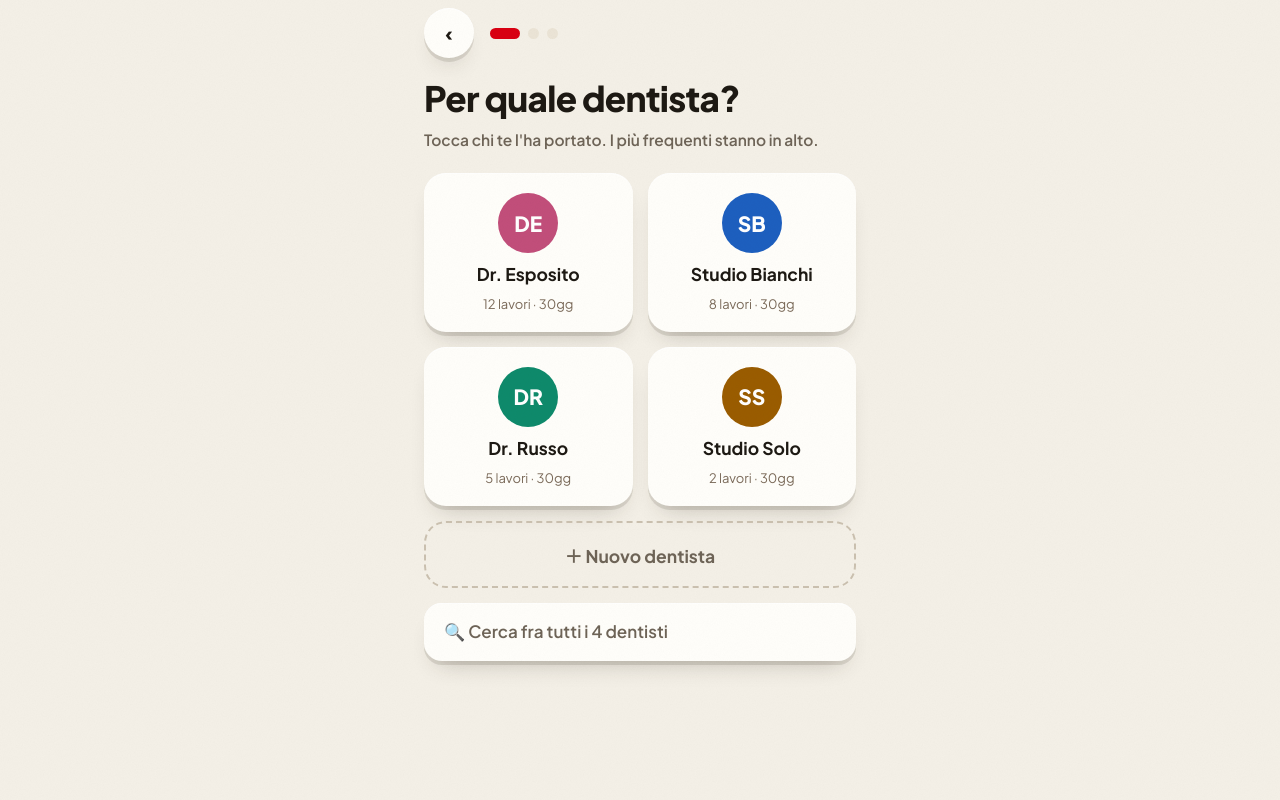
Scenario: WizardNuovoLavoro — mini-foglio «Chi ha prescritto?» (Task 10, P37/D211) › studio con più medici: il foglio sale, elenca i medici trovati
Click the button "SB Studio Bianchi 8 lavori · 30gg" at (752, 252), box [648,173,856,332]
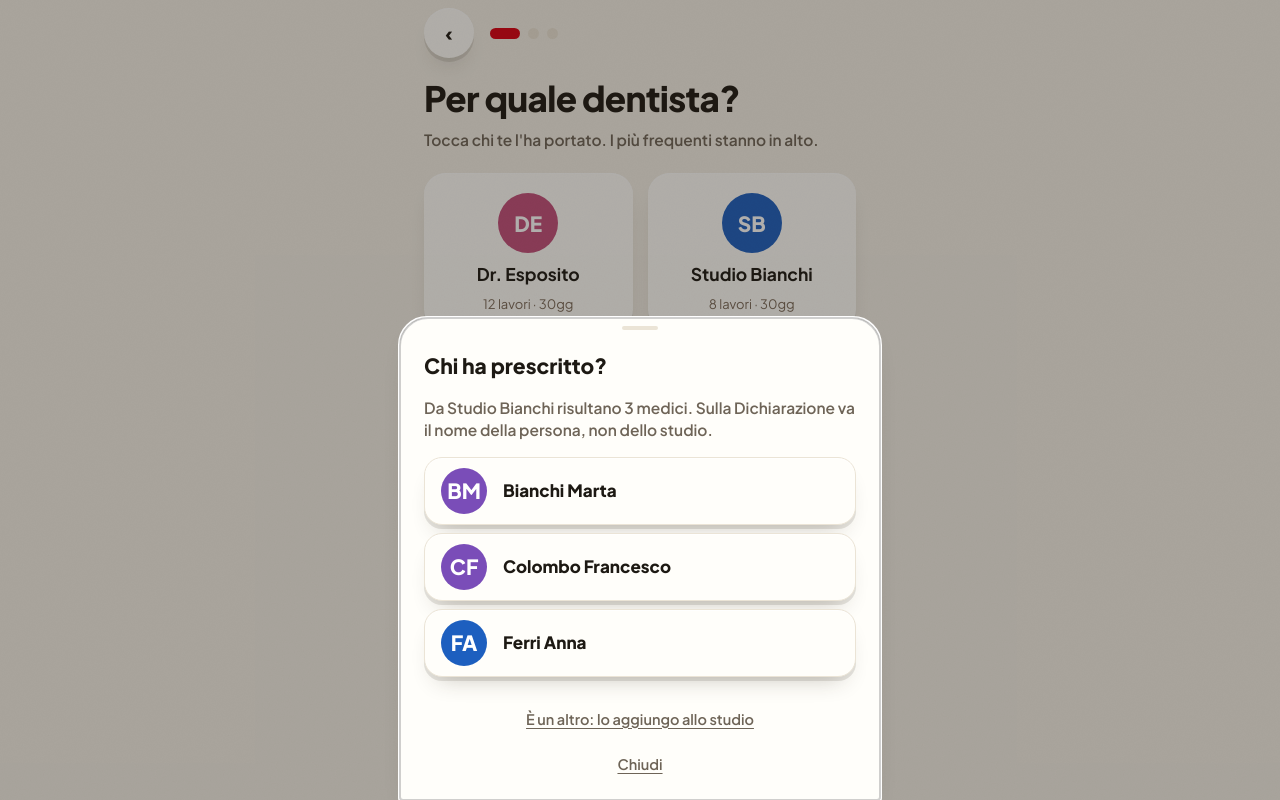
Now the button "CF Colombo Francesco" is shown, box [424,532,856,600]
Now the button "FA Ferri Anna" is shown, box [424,608,856,676]
Now the button "BM Bianchi Marta" is shown, box [424,456,856,524]
